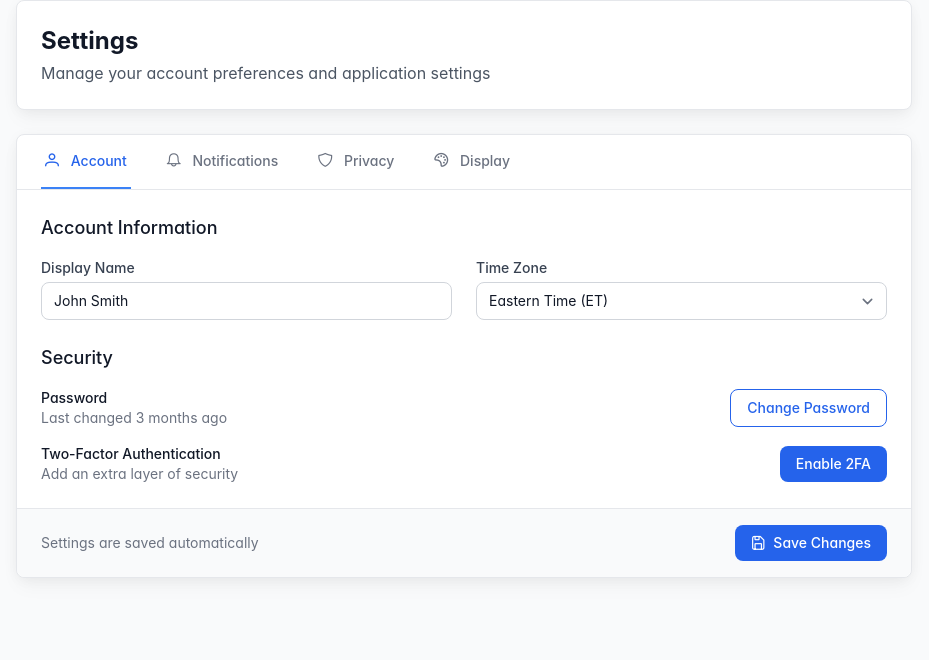
Scenario: SettingsView › Tab Navigation › should switch to display tab when clicked
This screenshot has width=929, height=660.
Click the button "Display": click(472, 162) x1=430 y1=135 x2=514 y2=189
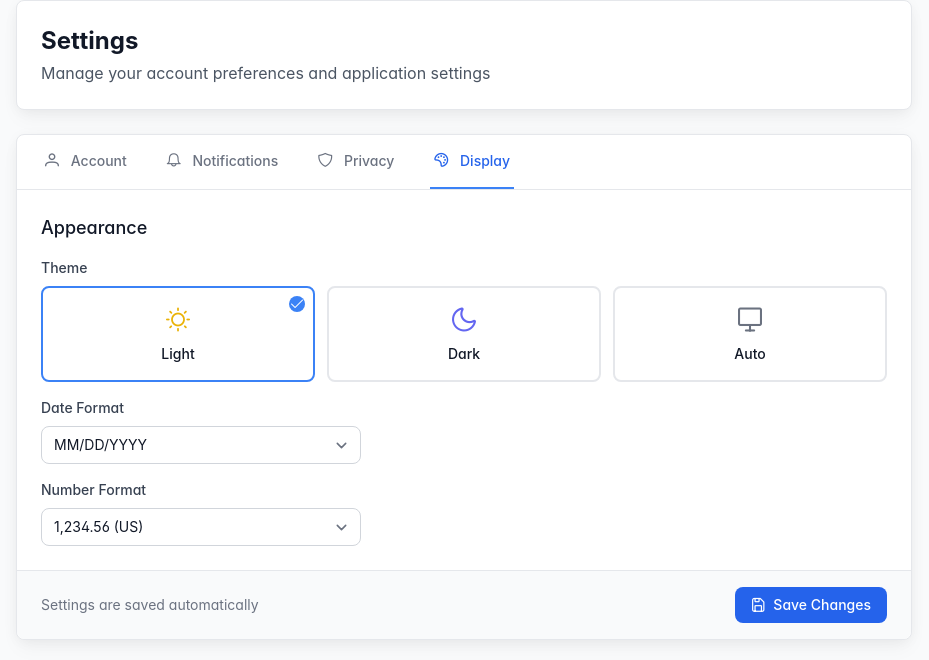
Check: the text "Appearance" is shown, box x1=41 y1=217 x2=147 y2=238
Check: the text "Theme" is shown, box x1=41 y1=259 x2=88 y2=276
Check: the text "Date Format" is shown, box x1=41 y1=399 x2=124 y2=416
